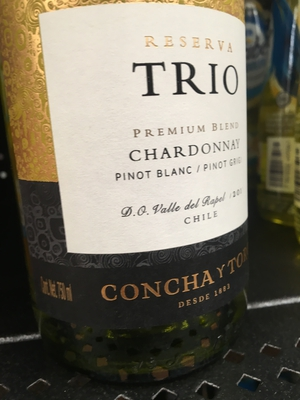trio chardonnay: (3, 8, 261, 370)
